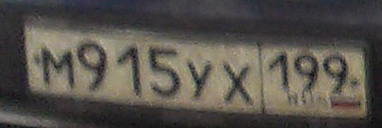character: (147, 40, 183, 104), (115, 37, 146, 104), (38, 41, 76, 91), (77, 37, 110, 94), (187, 51, 216, 107), (223, 56, 254, 108), (325, 47, 353, 98), (295, 47, 322, 99), (267, 46, 291, 96)
